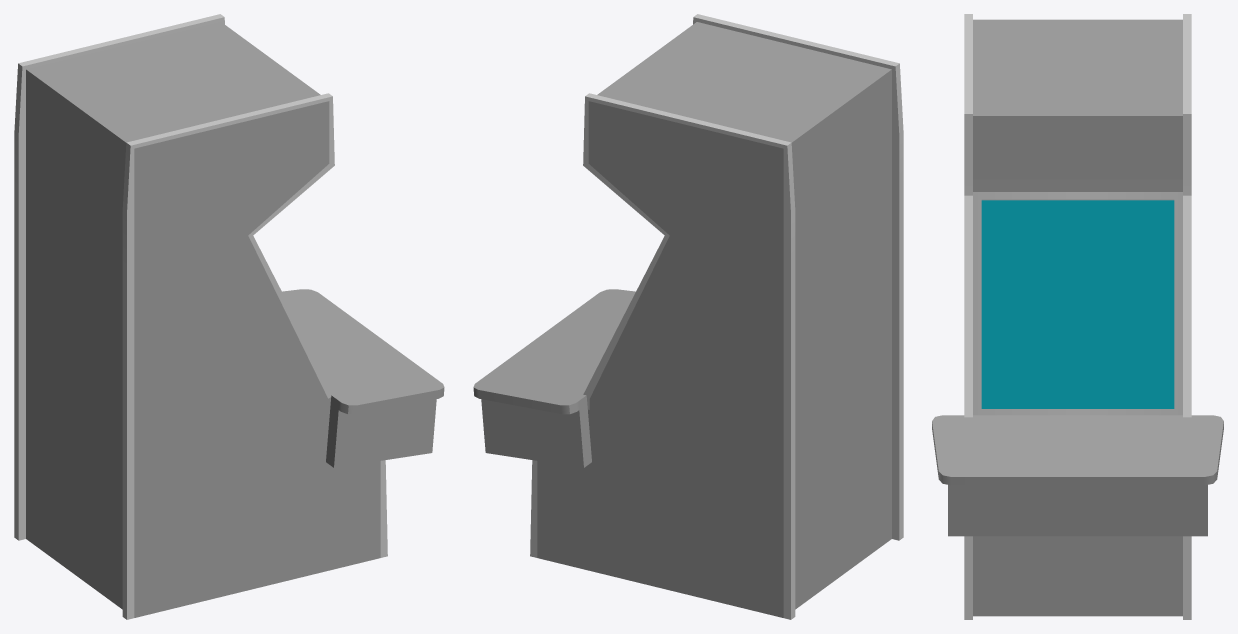
File: ArcadeCabinet.fbx
3 views of the same model, side by side, from view 1: azimuth 30°, elevation 25°; view 2: azimuth 150°, elevation 25°; view 3: azimuth 270°, elevation 25° (orthographic).
Visible parts, largest first — view 1: pPlane9, pPlane10; view 2: pPlane9, pPlane10; view 3: pPlane9, pPlane10.
Boxes of the visible parts, x1,y1,x2,y2 form: pPlane9: (14, 14, 387, 619); pPlane10: (282, 289, 444, 467); pPlane9: (530, 14, 903, 619); pPlane10: (473, 289, 635, 467); pPlane9: (964, 14, 1191, 619); pPlane10: (932, 415, 1223, 536).
Bounding box in the file's own units: 223 × 326 × 180.
